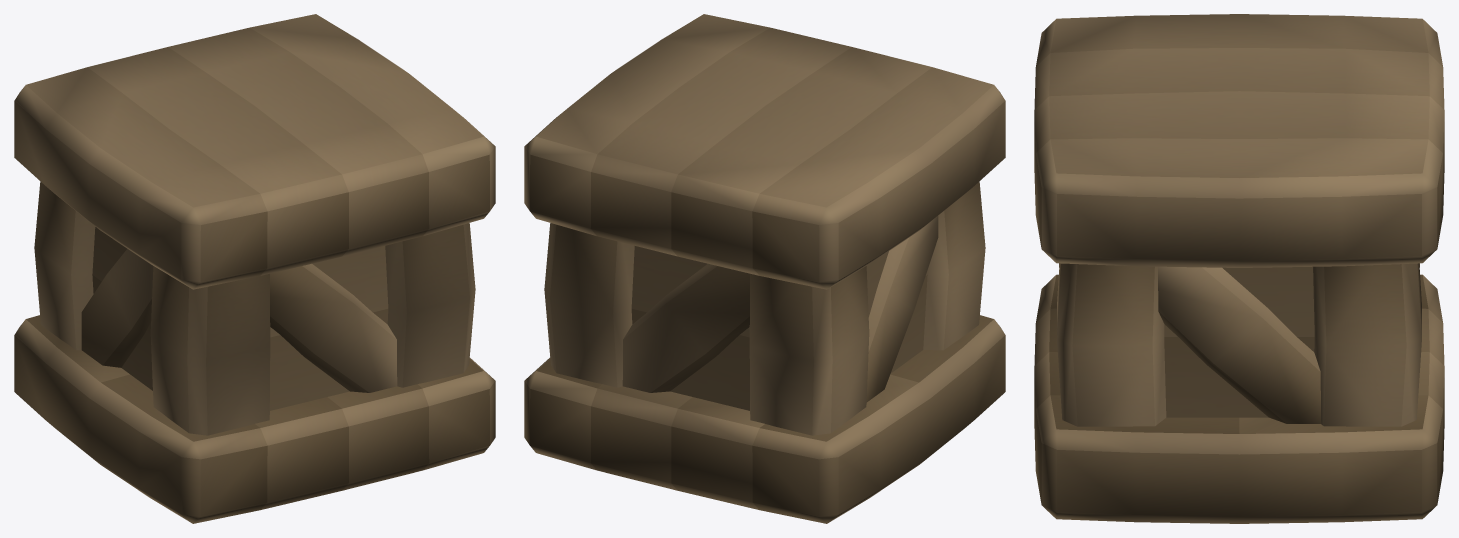
File: box_large_1.fbx
The picture shows the model from 3 angles, left to right: view 1: azimuth 30°, elevation 25°; view 2: azimuth 150°, elevation 25°; view 3: azimuth 270°, elevation 25°; orthographic projection. The views are drawn at different scales.
Parts seen in each view (by area): view 1: box_large_1; view 2: box_large_1; view 3: box_large_1.
Part boxes in pixels (left/top/right/bottom): box_large_1: left=14, top=14, right=495, bottom=523; box_large_1: left=524, top=14, right=1005, bottom=523; box_large_1: left=1034, top=14, right=1444, bottom=523.
Bounding box in the file's own units: 113 × 105 × 111.
